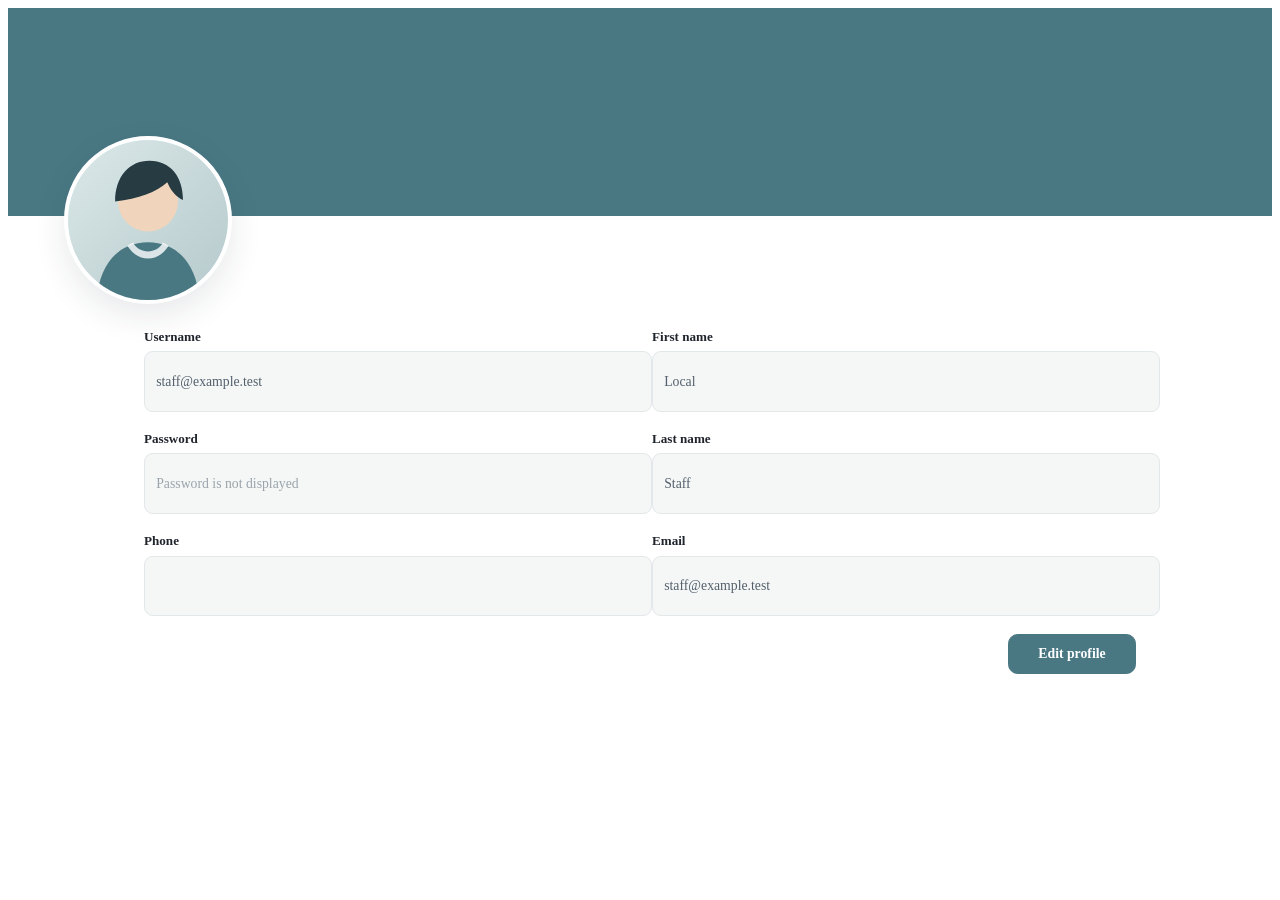
Scenario: user profile view › keeps Keycloak-owned changes in edit mode until an account API exists
Click the button "Edit profile".
click(1072, 654)  # box [1008,634,1136,674]
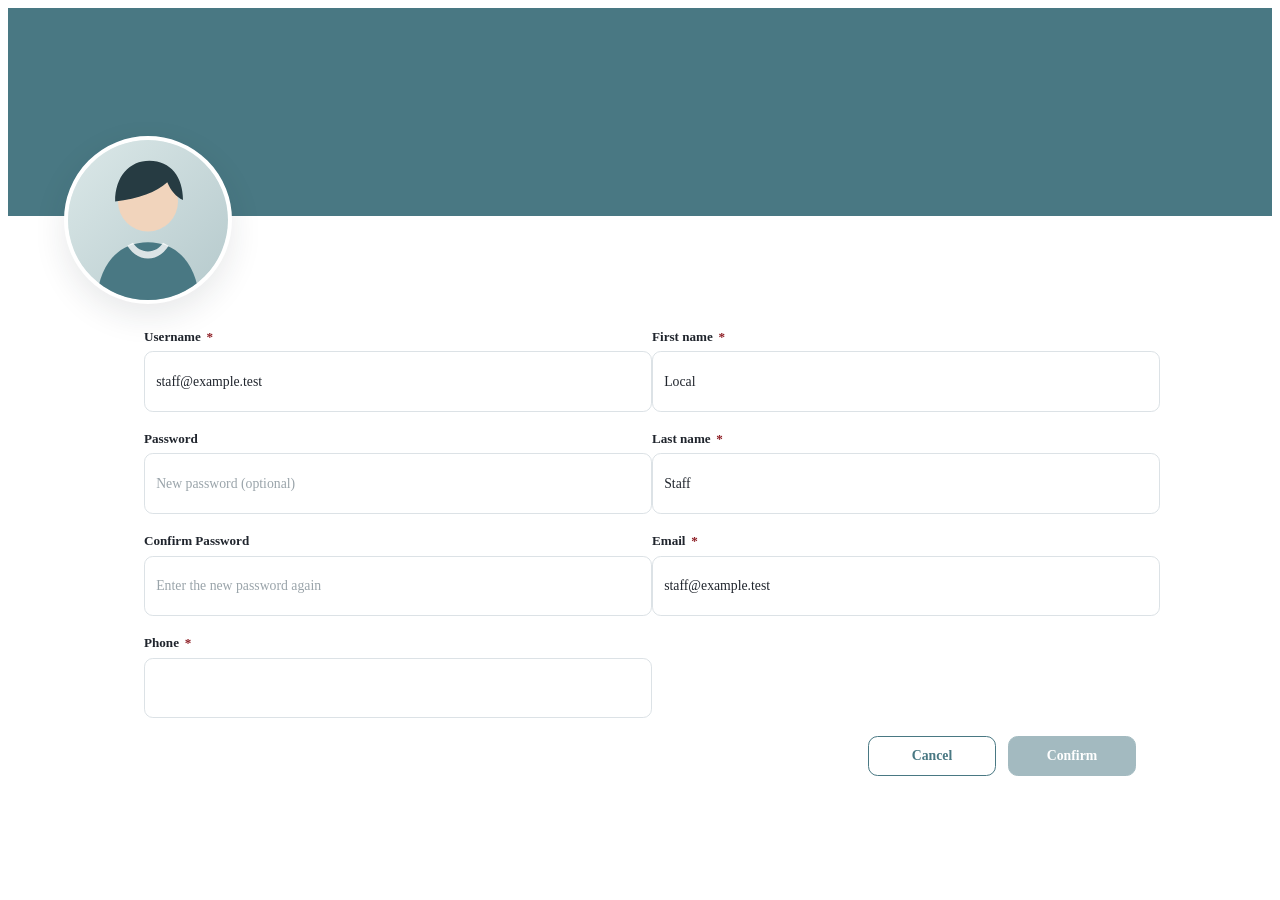
Replace the text in the field labelled "First name *" with "Updated" at (906, 382), box [652,351,1160,412]
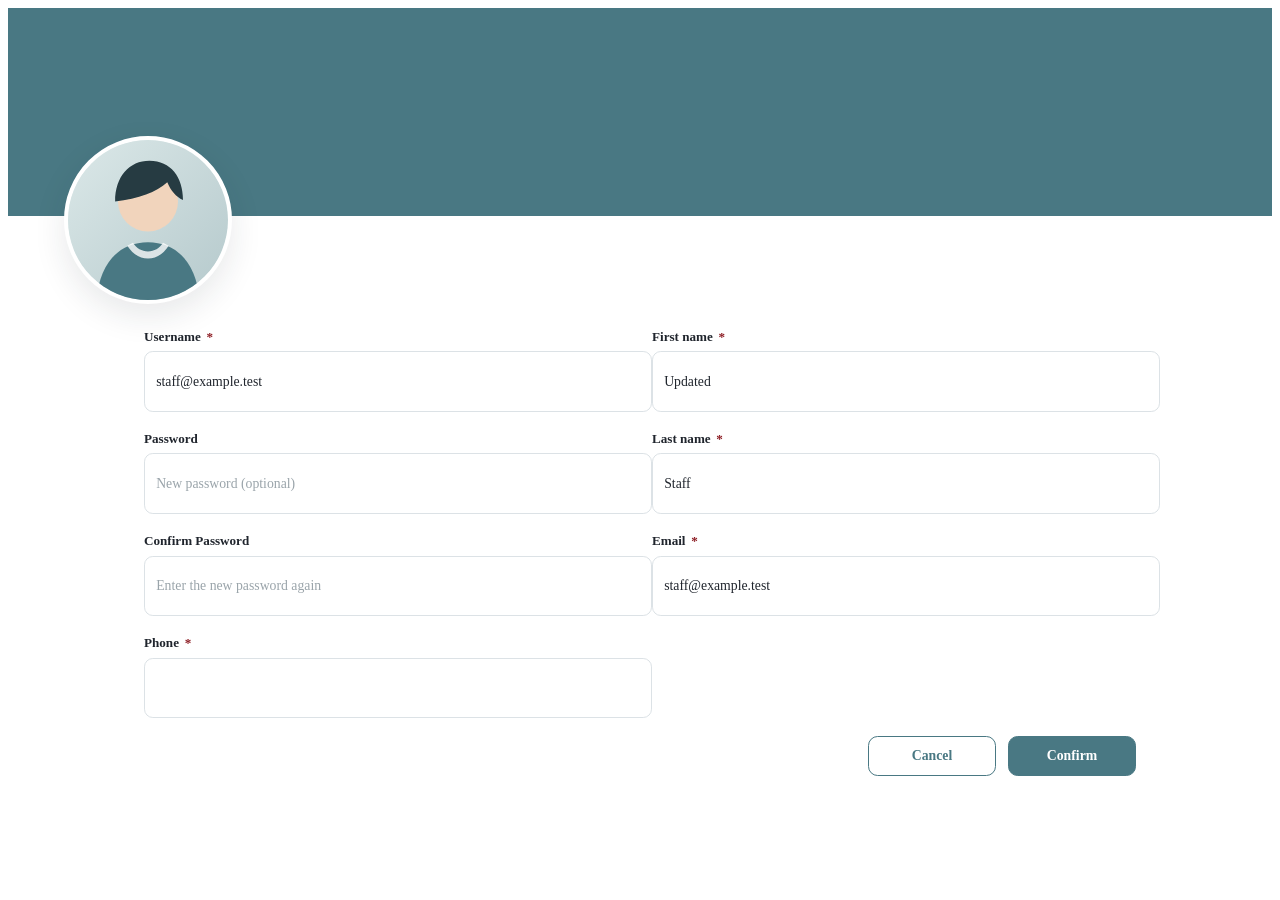
Submit the form, box [144,216,1136,824]
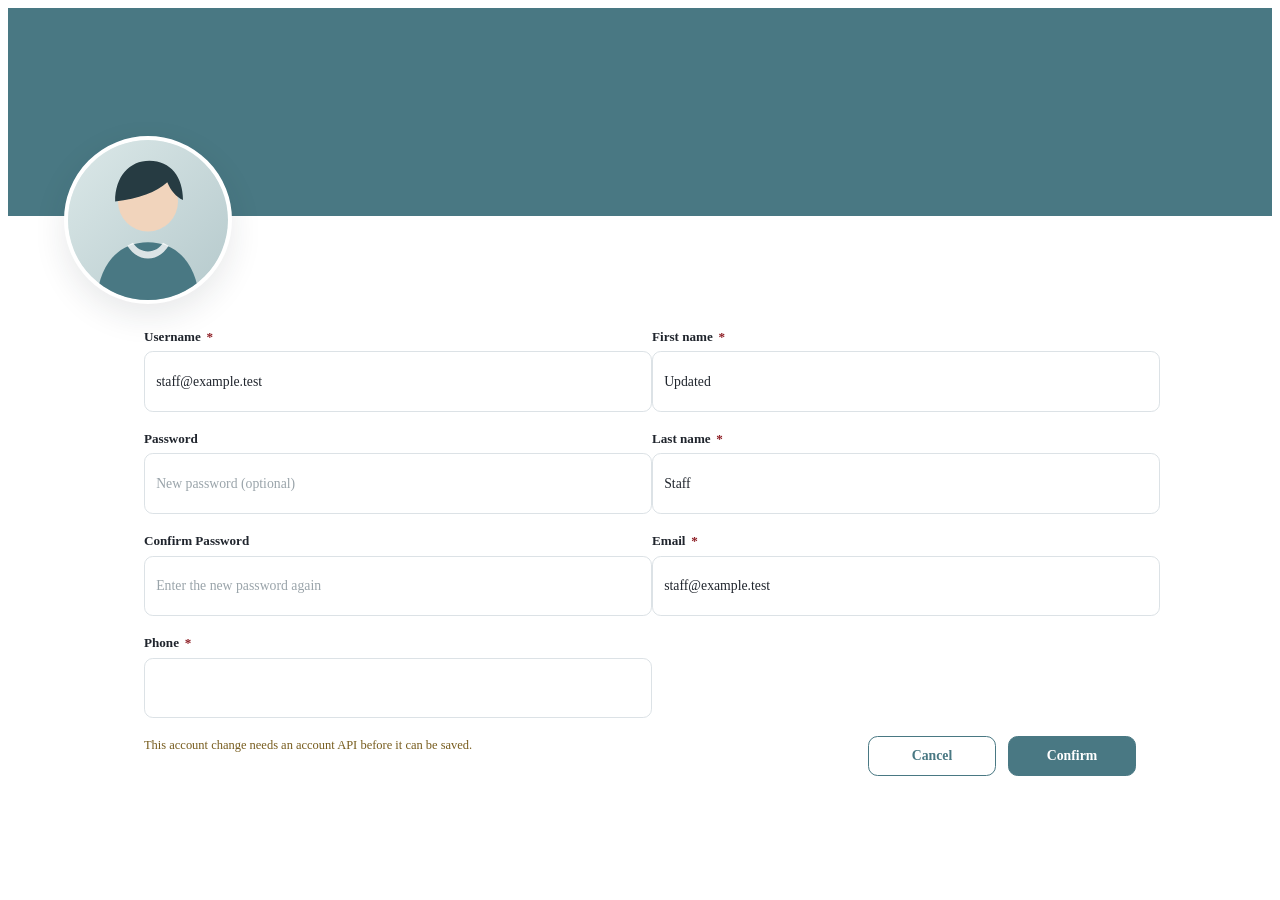
Expected: the submit button is shown, [1008,736,1136,776]
Expected: the message with class "status-pending" shows "needs an account API", [144,738,472,752]
